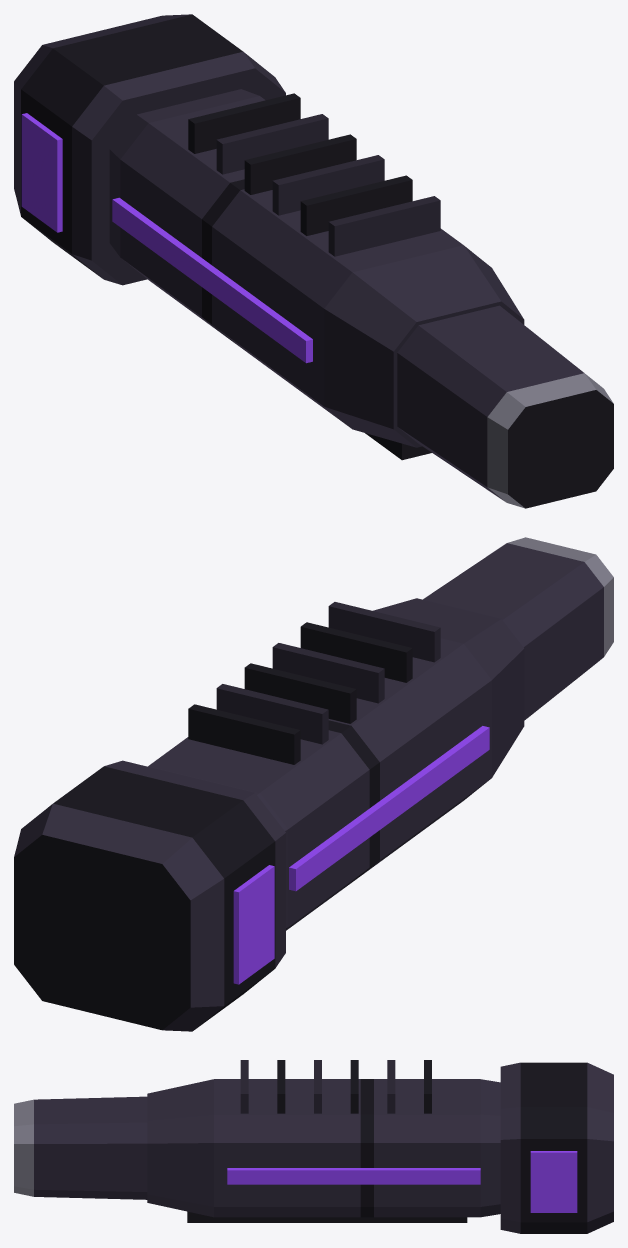
The model's file is lasergun_body.fbx.
3 renders of one model, top to bottom at view 1: azimuth 30°, elevation 25°; view 2: azimuth 150°, elevation 25°; view 3: azimuth 270°, elevation 25°, orthographic. The views are drawn at different scales.
Visible parts, largest first — view 1: lasergun_body; view 2: lasergun_body; view 3: lasergun_body.
Boxes of the visible parts, <box> form: lasergun_body: <box>14,14,613,508</box>; lasergun_body: <box>14,537,613,1031</box>; lasergun_body: <box>14,1060,613,1233</box>.
Size of the model in its own units: 0.246 by 0.228 by 0.9.
